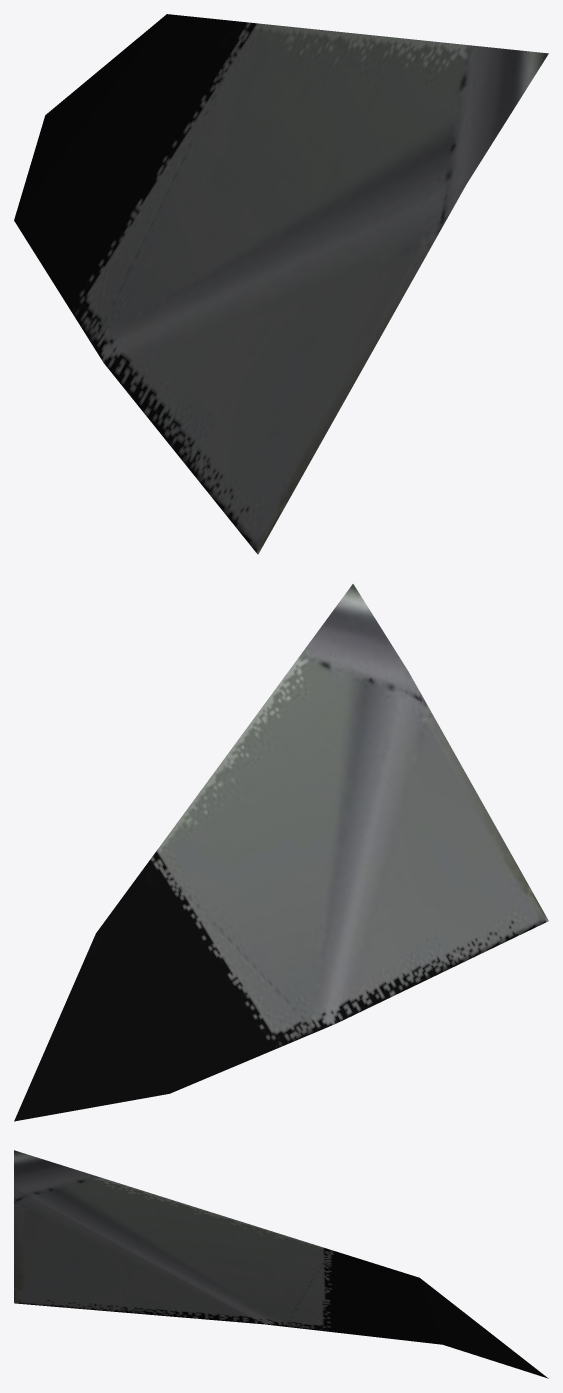
The picture shows the model from 3 angles, top to bottom: view 1: azimuth 30°, elevation 25°; view 2: azimuth 150°, elevation 25°; view 3: azimuth 270°, elevation 25°; orthographic projection. The views are drawn at different scales.
Size of the model in its own units: 0.4774 by 0.675 by 1.43.
1 material, 1 textured.
